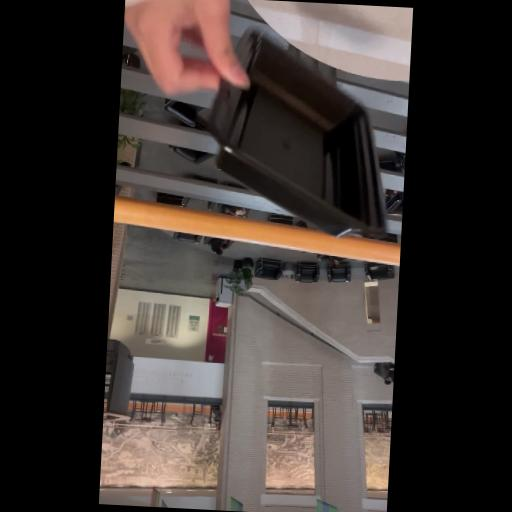rigid_plastic_container: (196, 32, 392, 238)
